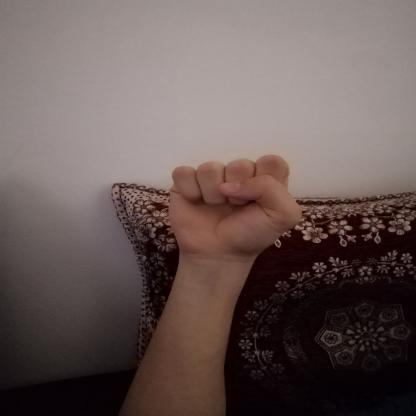SAD: (144, 143, 335, 275)
